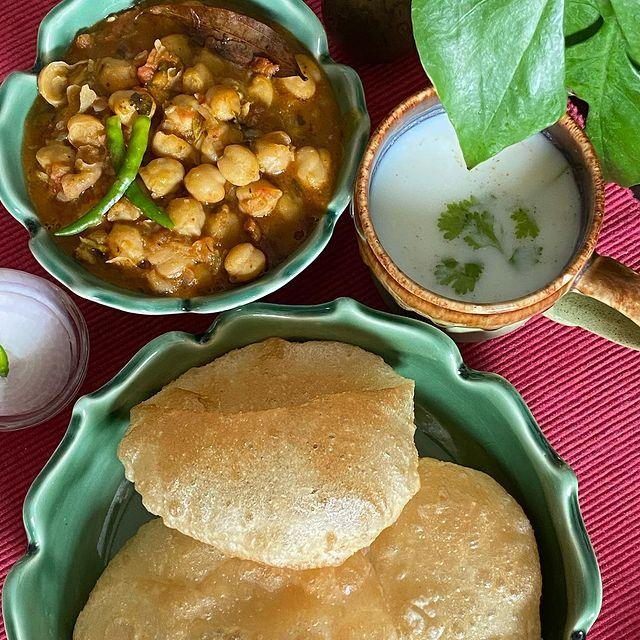Chole: (18, 0, 370, 296)
